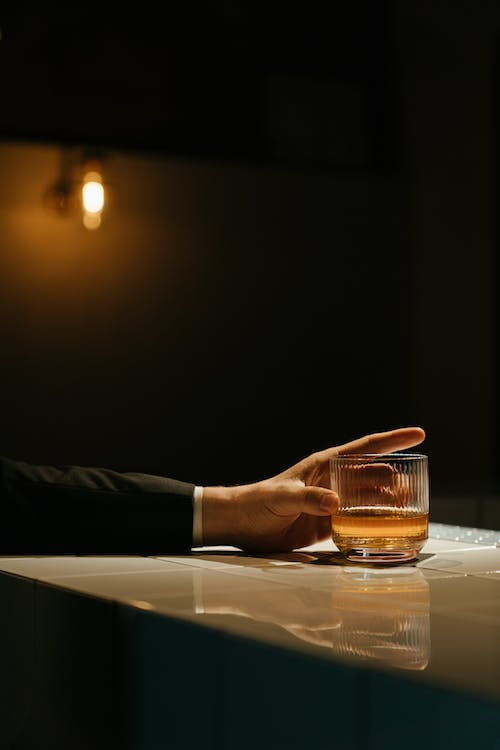alcohol: (327, 451, 432, 563)
